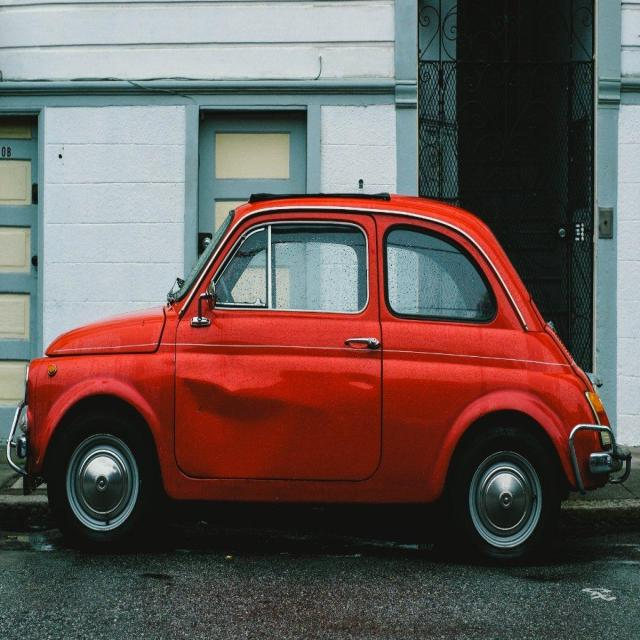dent: (174, 372, 334, 479), (347, 373, 376, 391)
